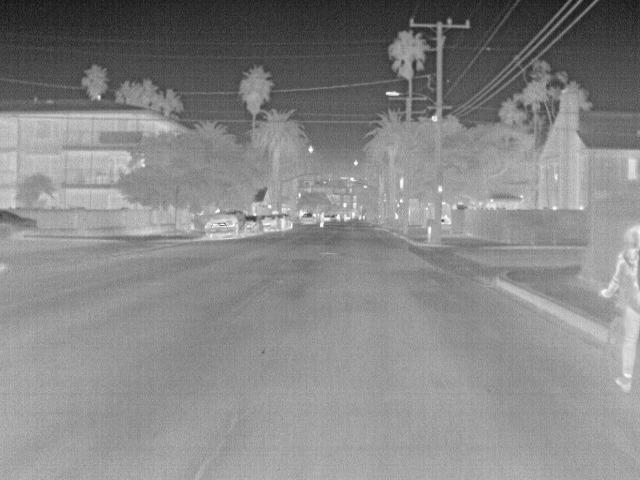car: (202, 210, 247, 243), (1, 209, 37, 241), (241, 213, 261, 235), (258, 213, 281, 232), (278, 213, 294, 232), (299, 212, 317, 224)
person: (598, 223, 639, 396), (318, 211, 326, 229)
